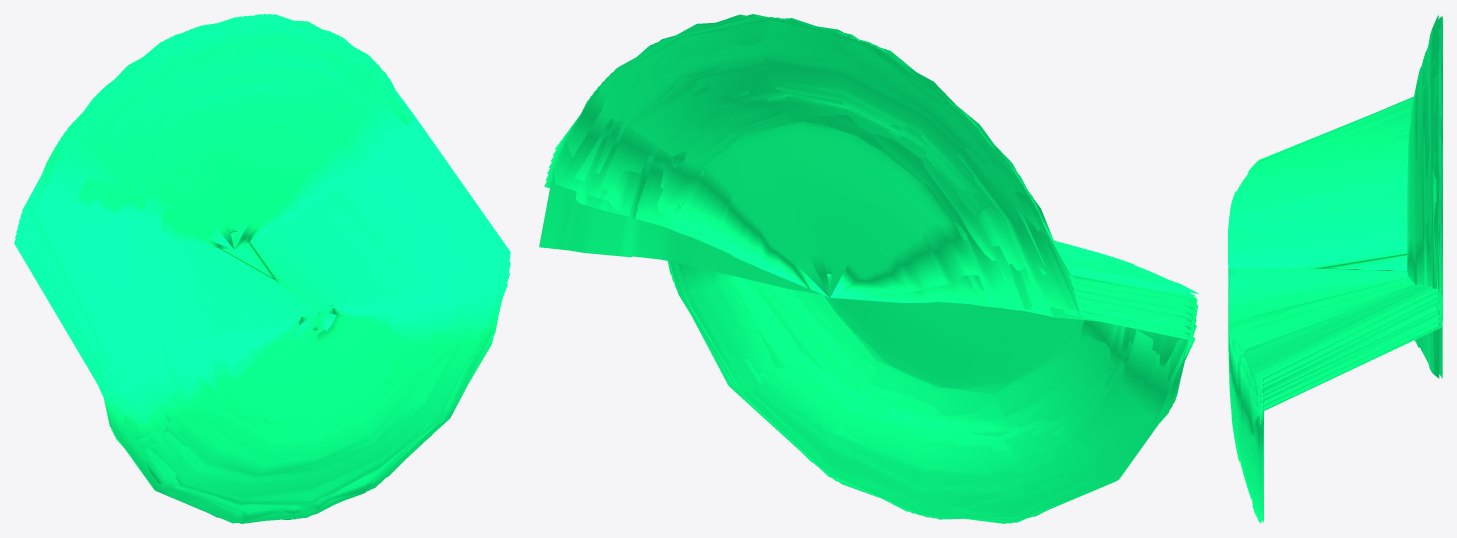
Rendered from square_root_riemann_ar_universal (1).glb.
The picture shows the model from 3 angles, left to right: view 1: azimuth 30°, elevation 25°; view 2: azimuth 150°, elevation 25°; view 3: azimuth 270°, elevation 25°; orthographic projection. The views are drawn at different scales.
Parts seen in each view (by area): view 1: square_root_riemann_ar; view 2: square_root_riemann_ar; view 3: square_root_riemann_ar.
Part boxes in pixels (x1,y1,x2,y2): square_root_riemann_ar: [14, 14, 510, 523]; square_root_riemann_ar: [539, 14, 1199, 523]; square_root_riemann_ar: [1228, 14, 1442, 523].
Bounding box in the file's own units: 1 × 0.9976 × 0.4201.
